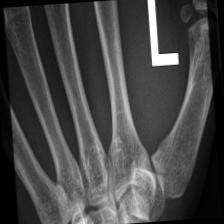longitudinal-fracture: (2, 0, 221, 224)
